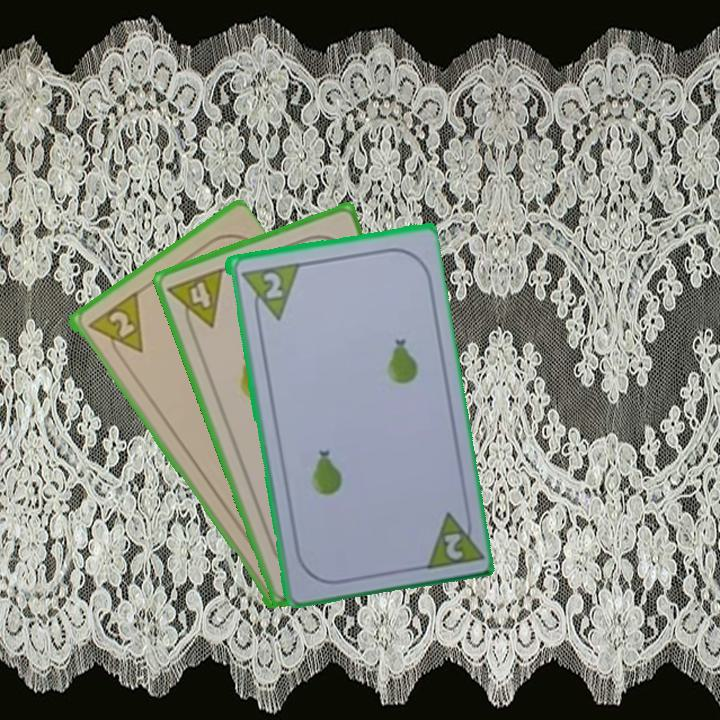2p: (83, 289, 146, 365), (418, 503, 483, 572), (236, 259, 301, 325)
4p: (164, 264, 227, 337)
